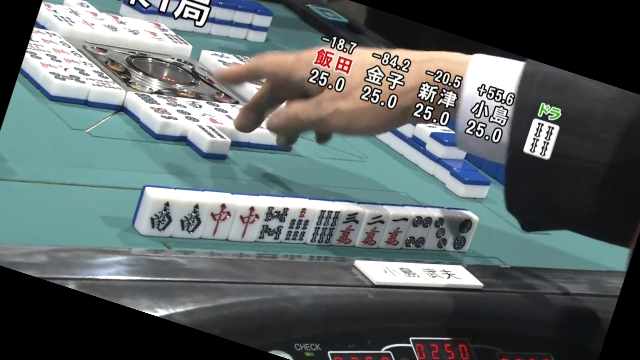Tehai: (133, 186, 475, 253)
